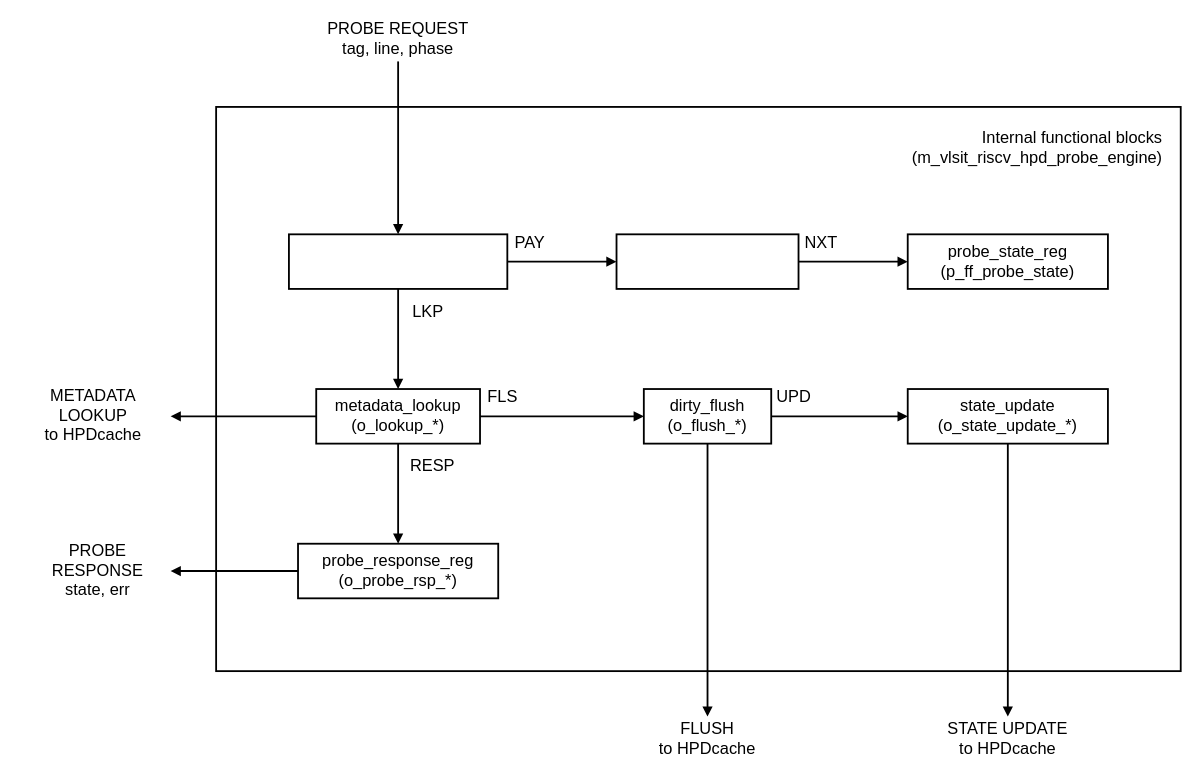
This 1197x777 diagram has some shape labels left out. The centre of each missing label's shape, as x and y in pixels:
"probe_fsm_next (p_com_probe_nxt)" goes at [707,261].
"probe_payload_regs (p_ff_probe_payload)" goes at [398,261].
